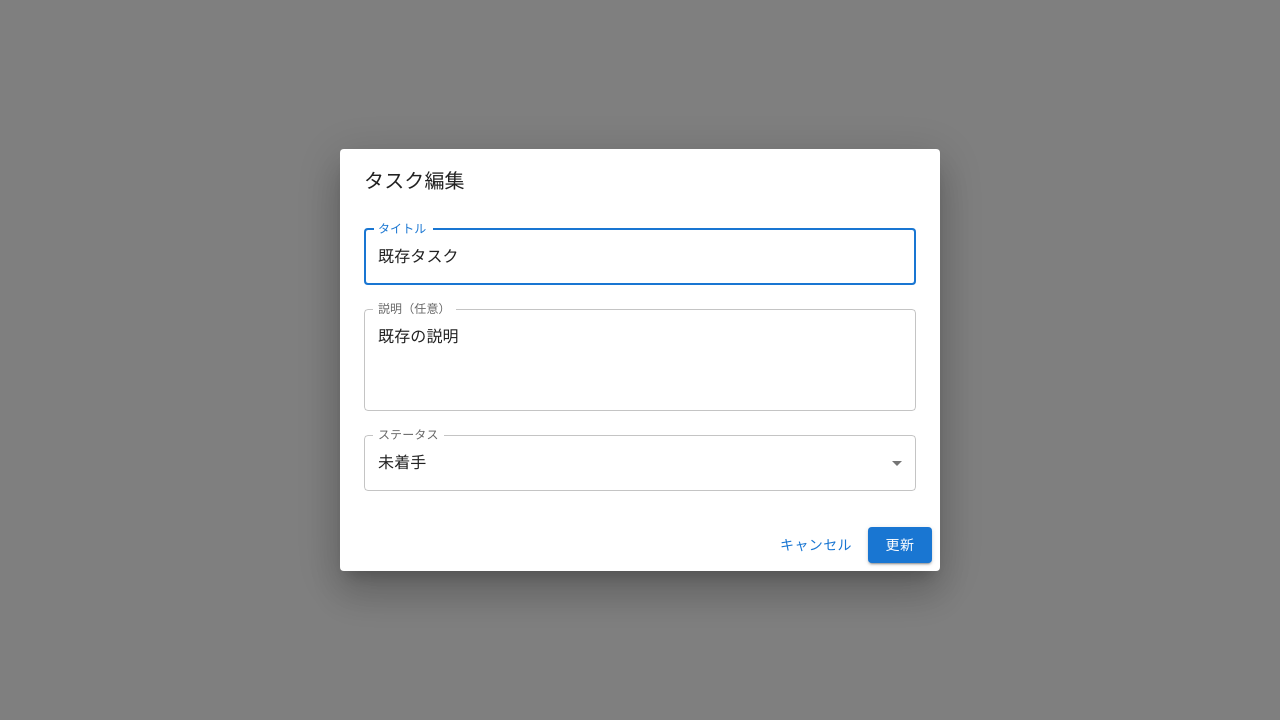
TaskEditDialog › タイトルを空にするとバリデーションエラーを表示する
The width and height of the screenshot is (1280, 720).
Clear the field showing "既存タスク": (640,257) [364, 229, 916, 285]
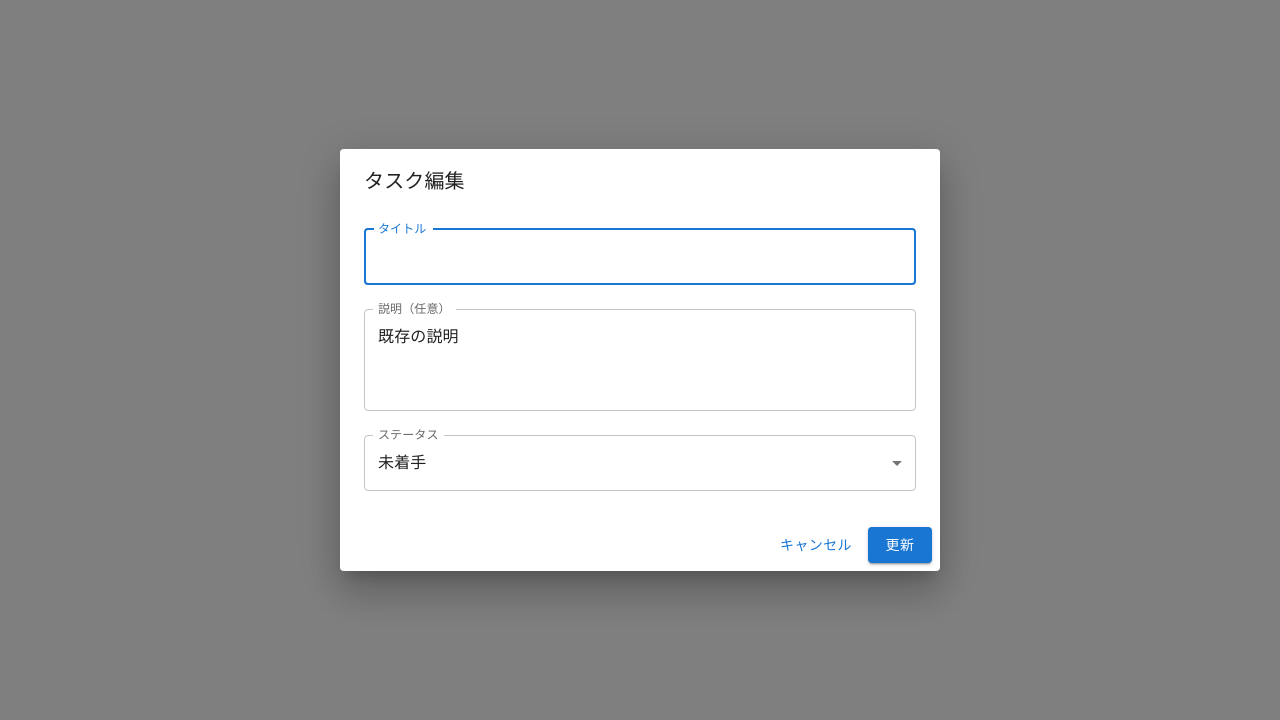
Click the button "更新": (900,545) [868, 527, 932, 563]
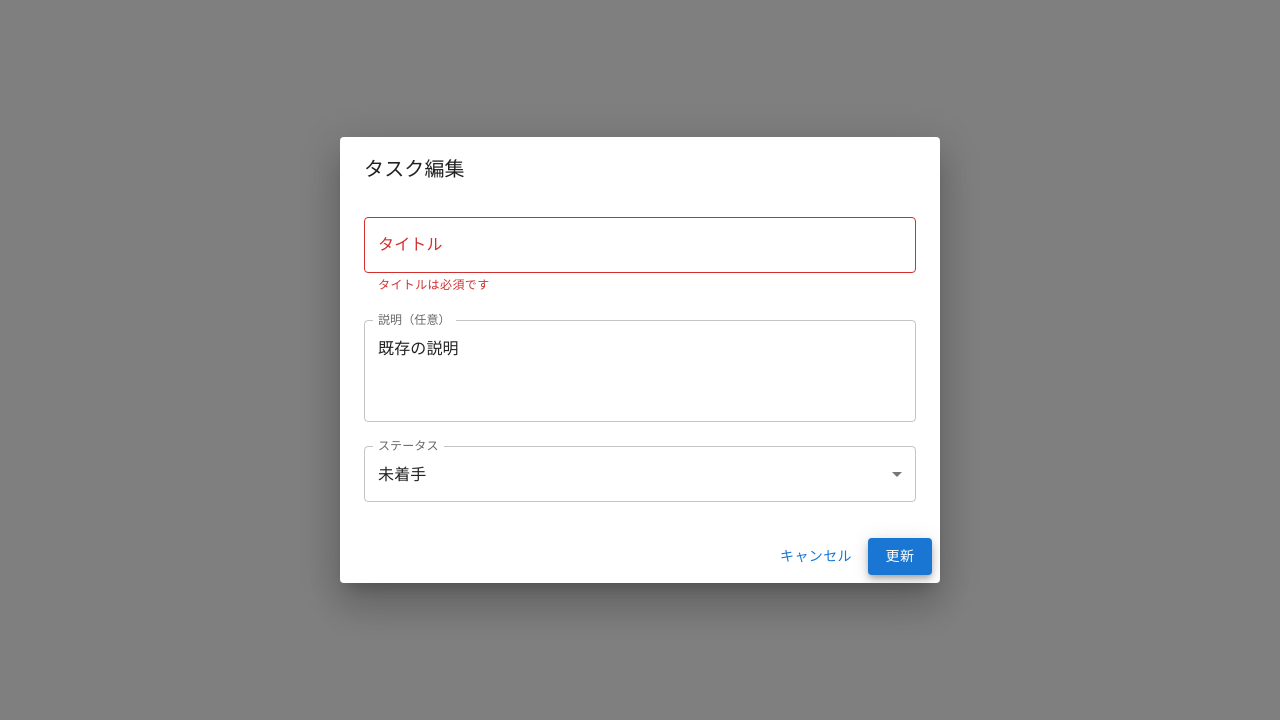
Result: the text "タイトルは必須です" is shown at [378, 278, 490, 292]
